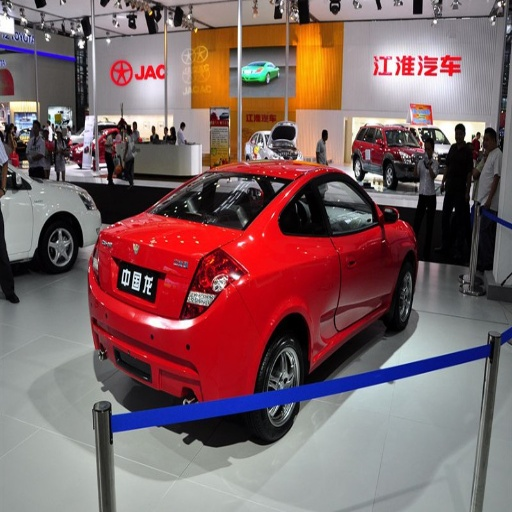back_bumper: (92, 299, 269, 398)
back_right_door: (290, 174, 341, 343)
tailgate: (99, 220, 198, 324)
trunk: (392, 370, 478, 472), (141, 216, 212, 263)
